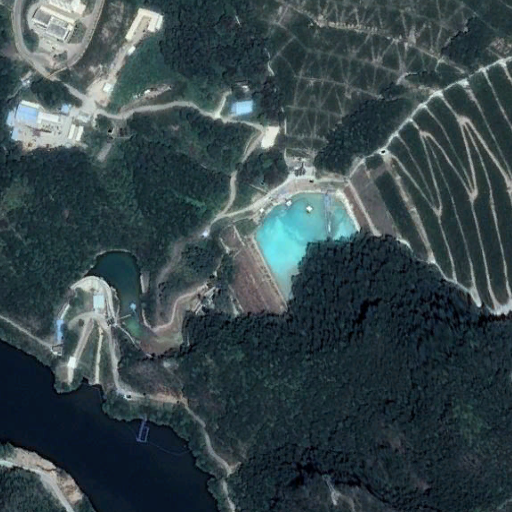tp: (221, 191, 363, 313)
